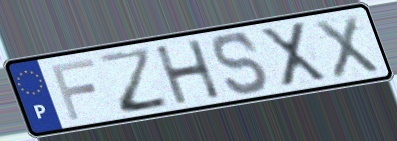F: (48, 56, 98, 122)
H: (151, 37, 224, 107)
S: (210, 30, 272, 98)
X: (256, 20, 331, 90), (311, 13, 383, 82)
Z: (95, 45, 173, 116)
